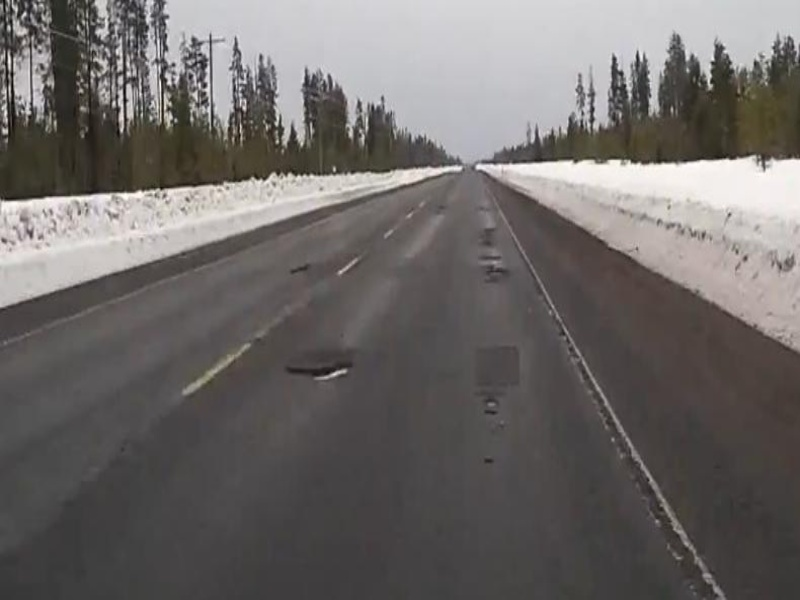pothole: (285, 360, 360, 385)
